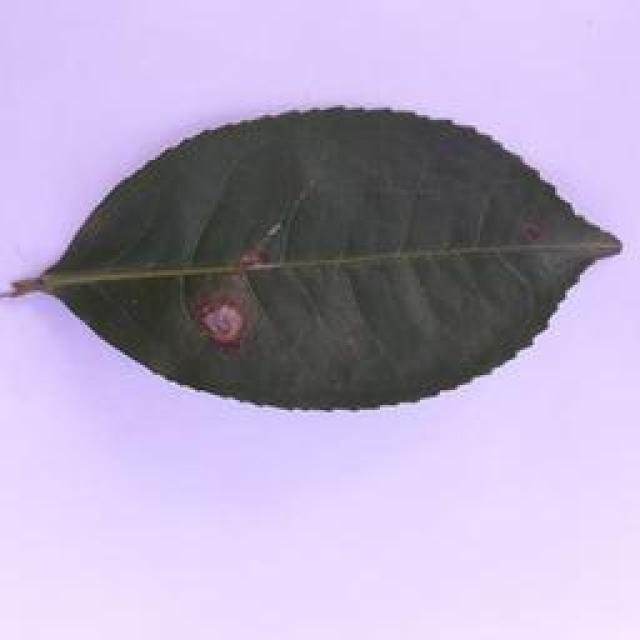Gray Blight: (0, 105, 627, 418)
